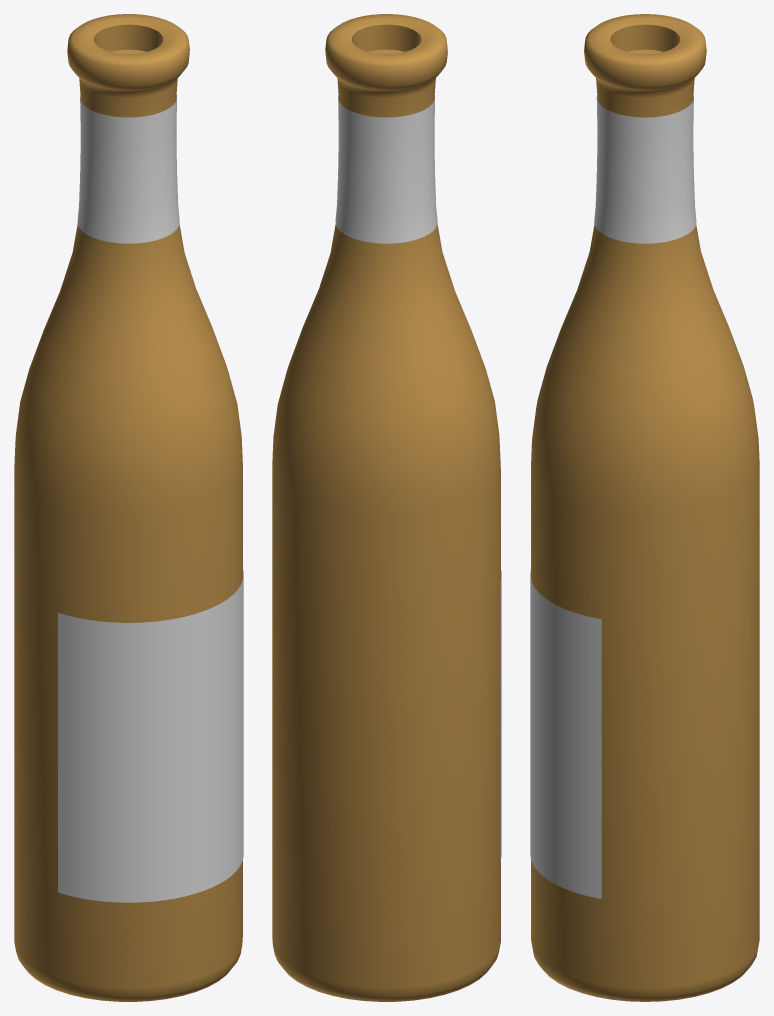
The model's file is SM_GlassBottle.fbx.
The picture shows the model from 3 angles, left to right: view 1: azimuth 30°, elevation 25°; view 2: azimuth 150°, elevation 25°; view 3: azimuth 270°, elevation 25°; orthographic projection.
Parts seen in each view (by area): view 1: SM_GlassBottle, SM_GlassBottle_Label, SM_GlassBottle_NeckLabel; view 2: SM_GlassBottle, SM_GlassBottle_NeckLabel, SM_GlassBottle_Label; view 3: SM_GlassBottle, SM_GlassBottle_Label, SM_GlassBottle_NeckLabel.
Part boxes in pixels (box(x1,y1,x2,y2)): SM_GlassBottle: box(14, 14, 242, 1001); SM_GlassBottle_Label: box(58, 570, 243, 902); SM_GlassBottle_NeckLabel: box(77, 95, 179, 243); SM_GlassBottle: box(272, 14, 500, 1001); SM_GlassBottle_NeckLabel: box(335, 95, 437, 243); SM_GlassBottle_Label: box(500, 570, 501, 859); SM_GlassBottle: box(531, 14, 759, 1001); SM_GlassBottle_Label: box(530, 569, 601, 898); SM_GlassBottle_NeckLabel: box(594, 95, 696, 243).
Size of what is drawn, in the model's own units: 6.3 by 6.32 by 28.02.
